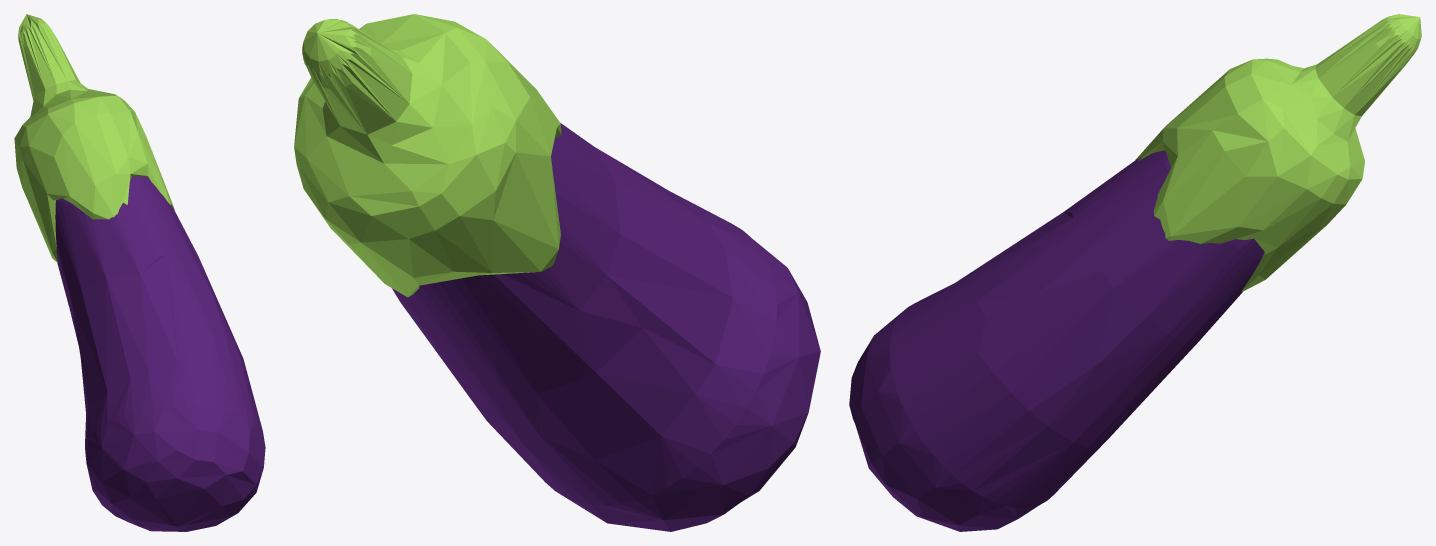
File: egg.glb
3 views of the same model, side by side, from view 1: azimuth 30°, elevation 25°; view 2: azimuth 150°, elevation 25°; view 3: azimuth 270°, elevation 25° (orthographic). The views are drawn at different scales.
Parts seen in each view (by area): view 1: node-0; view 2: node-0; view 3: node-0.
Boxes of the visible parts, left/top/right/bottom form: node-0: left=14, top=14, right=265, bottom=531; node-0: left=294, top=14, right=820, bottom=531; node-0: left=849, top=14, right=1421, bottom=531.
Bounding box in the file's own units: 674 × 1524 × 1534.
